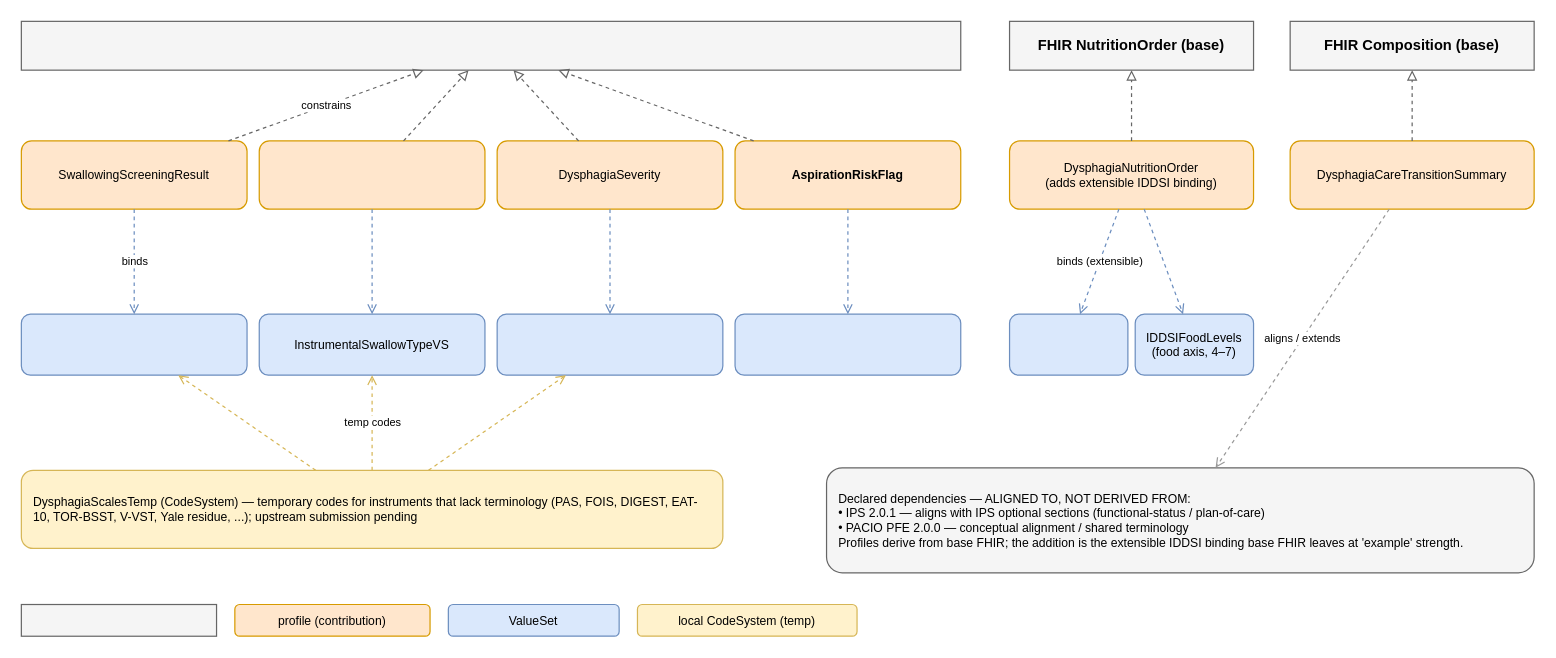
The diagram is 1556 pixels wide and 658 high, and some of its shapes have lost their labels. The centre of each missing label's shape, as x and y in pixels:
AspirationRiskValueVS: (847,344)
base FHIR / external: (118,619)
DysphagiaSeverityTypeVS: (609,344)
FHIR Observation (base): (490,45)
IDDSIFluidLevels (drink axis, 0–4): (1068,344)
InstrumentalSwallowAssessment: (371,174)
SwallowScreeningTypeVS: (133,344)
